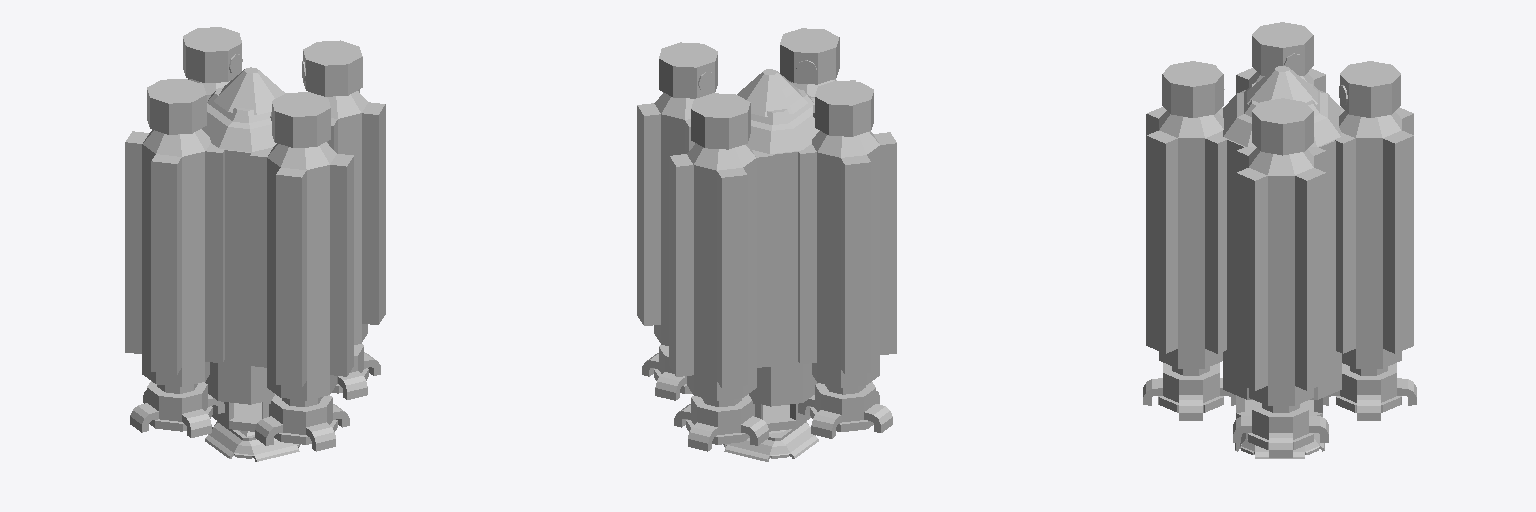
The model's file is rocket_t10.obj.
3 renders of one model, left to right at view 1: azimuth 30°, elevation 25°; view 2: azimuth 150°, elevation 25°; view 3: azimuth 270°, elevation 25°, orthographic.
Parts seen in each view (by area): view 1: RocketEngine007, RocketEngine004, RocketEngine005, RocketCockpit, RocketEngineBottom007, RocketEngineBottom004, RocketEnginePlut004, RocketEnginePlut007, RocketEnginePlut005, RocketEnginePlut006, NoseRocket, RoofCockpit (+3 smaller); view 2: RocketEngine006, RocketEngine004, RocketEngine005, RocketCockpit, RocketEngineBottom006, RocketEngineBottom004, RocketEnginePlut006, RocketEnginePlut004, RocketEnginePlut005, RocketEnginePlut007, NoseRocket, RoofCockpit (+3 smaller); view 3: RocketEngine005, RocketEngine007, RocketEngine006, RocketCockpit, RocketEngineBottom005, RocketEngineBottom007, RocketEngineBottom006, RocketEnginePlut007, RocketEnginePlut005, RocketEnginePlut006, NoseRocket, RocketEnginePlut004 (+3 smaller).
Part boxes in pixels (left/top/right/bottom): RocketEngine007: left=250, top=141, right=353, bottom=400; RocketEngine004: left=125, top=129, right=224, bottom=386; RocketEngine005: left=327, top=89, right=385, bottom=344; RocketCockpit: left=205, top=150, right=274, bottom=404; RocketEngineBottom007: left=255, top=394, right=349, bottom=451; RocketEngineBottom004: left=130, top=381, right=224, bottom=437; RocketEnginePlut004: left=147, top=79, right=206, bottom=134; RocketEnginePlut007: left=272, top=92, right=330, bottom=147; RocketEnginePlut005: left=303, top=40, right=362, bottom=96; RocketEnginePlut006: left=183, top=27, right=241, bottom=82; NoseRocket: left=202, top=87, right=276, bottom=152; RoofCockpit: left=214, top=67, right=284, bottom=114; RocketEngine006: left=669, top=143, right=773, bottom=400; RocketEngine004: left=798, top=131, right=896, bottom=387; RocketEngine005: left=637, top=92, right=694, bottom=345; RocketCockpit: left=749, top=151, right=817, bottom=406; RocketEngineBottom006: left=674, top=394, right=768, bottom=451; RocketEngineBottom004: left=798, top=382, right=892, bottom=438; RocketEnginePlut006: left=691, top=93, right=750, bottom=149; RocketEnginePlut004: left=815, top=80, right=873, bottom=136; RocketEnginePlut005: left=659, top=42, right=717, bottom=98; RocketEnginePlut007: left=780, top=28, right=839, bottom=84; NoseRocket: left=747, top=89, right=819, bottom=153; RoofCockpit: left=737, top=69, right=807, bottom=116; RocketEngine005: left=1236, top=147, right=1325, bottom=405; RocketEngine007: left=1146, top=107, right=1227, bottom=368; RocketEngine006: left=1335, top=107, right=1413, bottom=368; RocketCockpit: left=1223, top=107, right=1341, bottom=399; RocketEngineBottom005: left=1233, top=400, right=1328, bottom=457; RocketEngineBottom007: left=1143, top=363, right=1235, bottom=420; RocketEngineBottom006: left=1323, top=363, right=1416, bottom=420; RocketEnginePlut007: left=1162, top=61, right=1223, bottom=117; RocketEnginePlut005: left=1252, top=98, right=1313, bottom=155; RocketEnginePlut006: left=1340, top=61, right=1400, bottom=117; NoseRocket: left=1223, top=82, right=1340, bottom=146; RocketEnginePlut004: left=1252, top=22, right=1313, bottom=75.
Size of the model in its own units: 13.77 by 20.39 by 13.64.